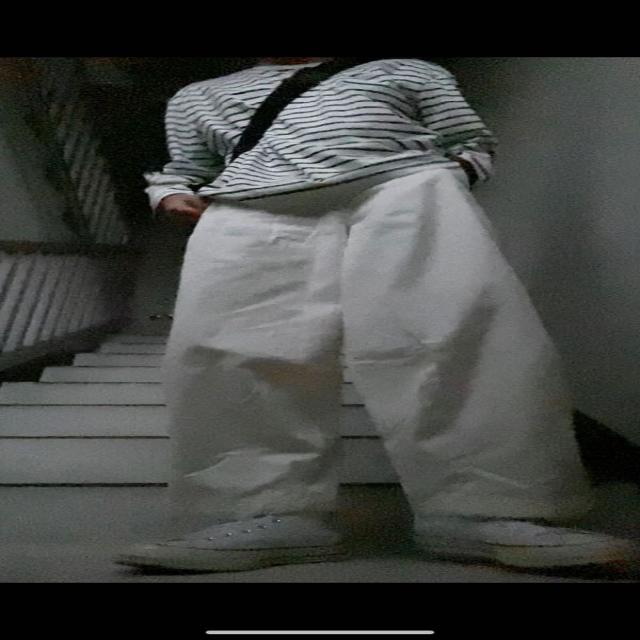cottonpants: (160, 166, 614, 516)
longsleeve: (151, 61, 502, 208)
